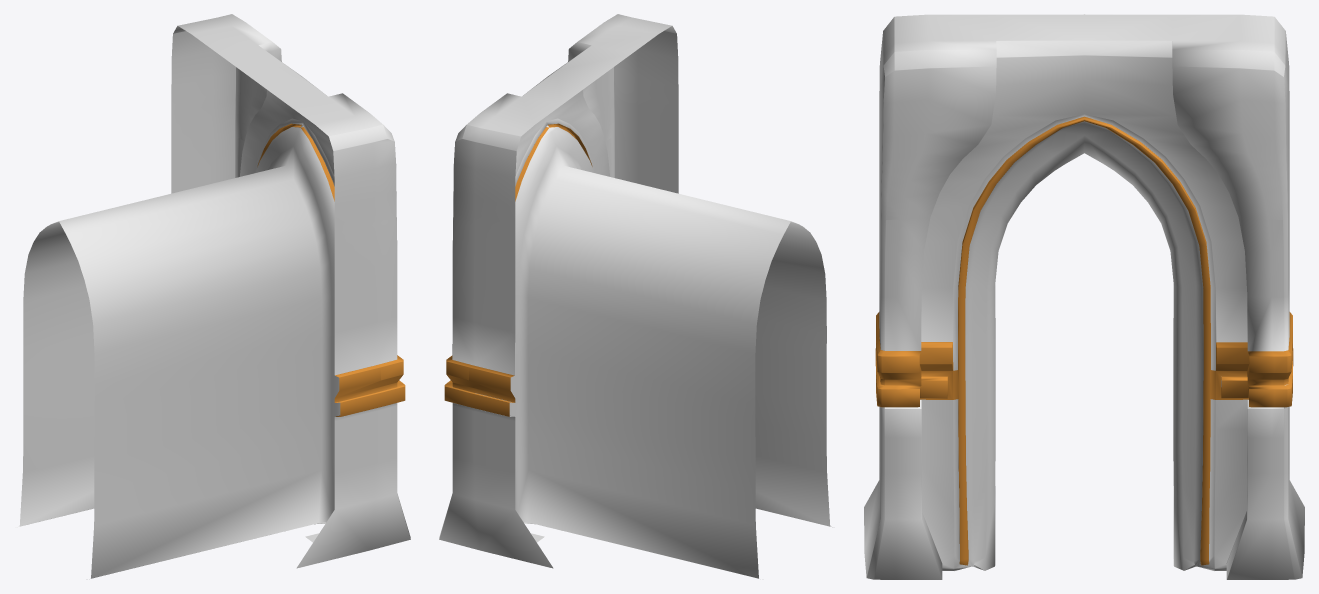
Rendered from Cloister_Clean.fbx.
The picture shows the model from 3 angles, left to right: view 1: azimuth 30°, elevation 25°; view 2: azimuth 150°, elevation 25°; view 3: azimuth 270°, elevation 25°; orthographic projection. The views are drawn at different scales.
Parts seen in each view (by area): view 1: Cloister_Clean; view 2: Cloister_Clean; view 3: Cloister_Clean.
Boxes of the visible parts, bbox=[...] form: Cloister_Clean: bbox=[15, 14, 410, 578]; Cloister_Clean: bbox=[439, 14, 834, 578]; Cloister_Clean: bbox=[864, 14, 1304, 579].
Bounding box in the file's own units: 203 × 297 × 222.
